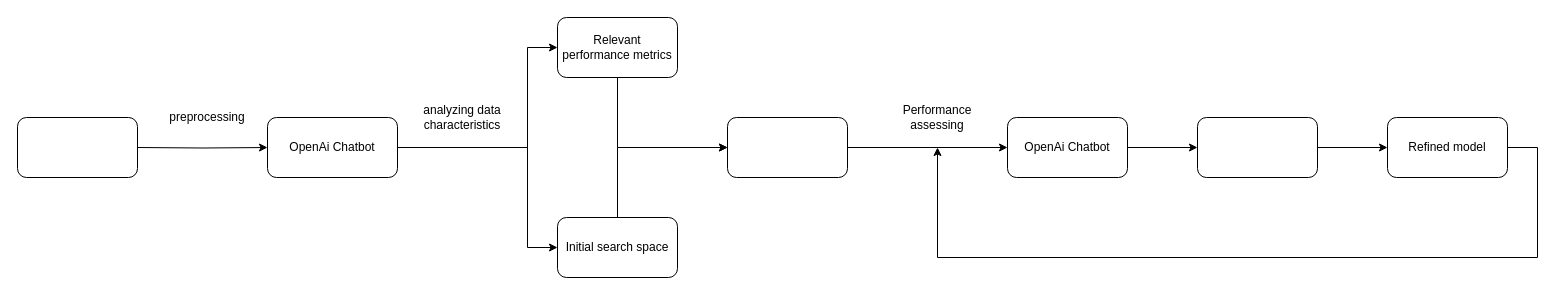
The diagram is 1563 pixels wide and 295 high, and some of its shapes have lost their labels. The centre of each missing label's shape, as x and y in pixels:
"Data" goes at pixel 77 147.
"Initial model" goes at pixel 787 147.
"Refined search space" goes at pixel 1257 147.
